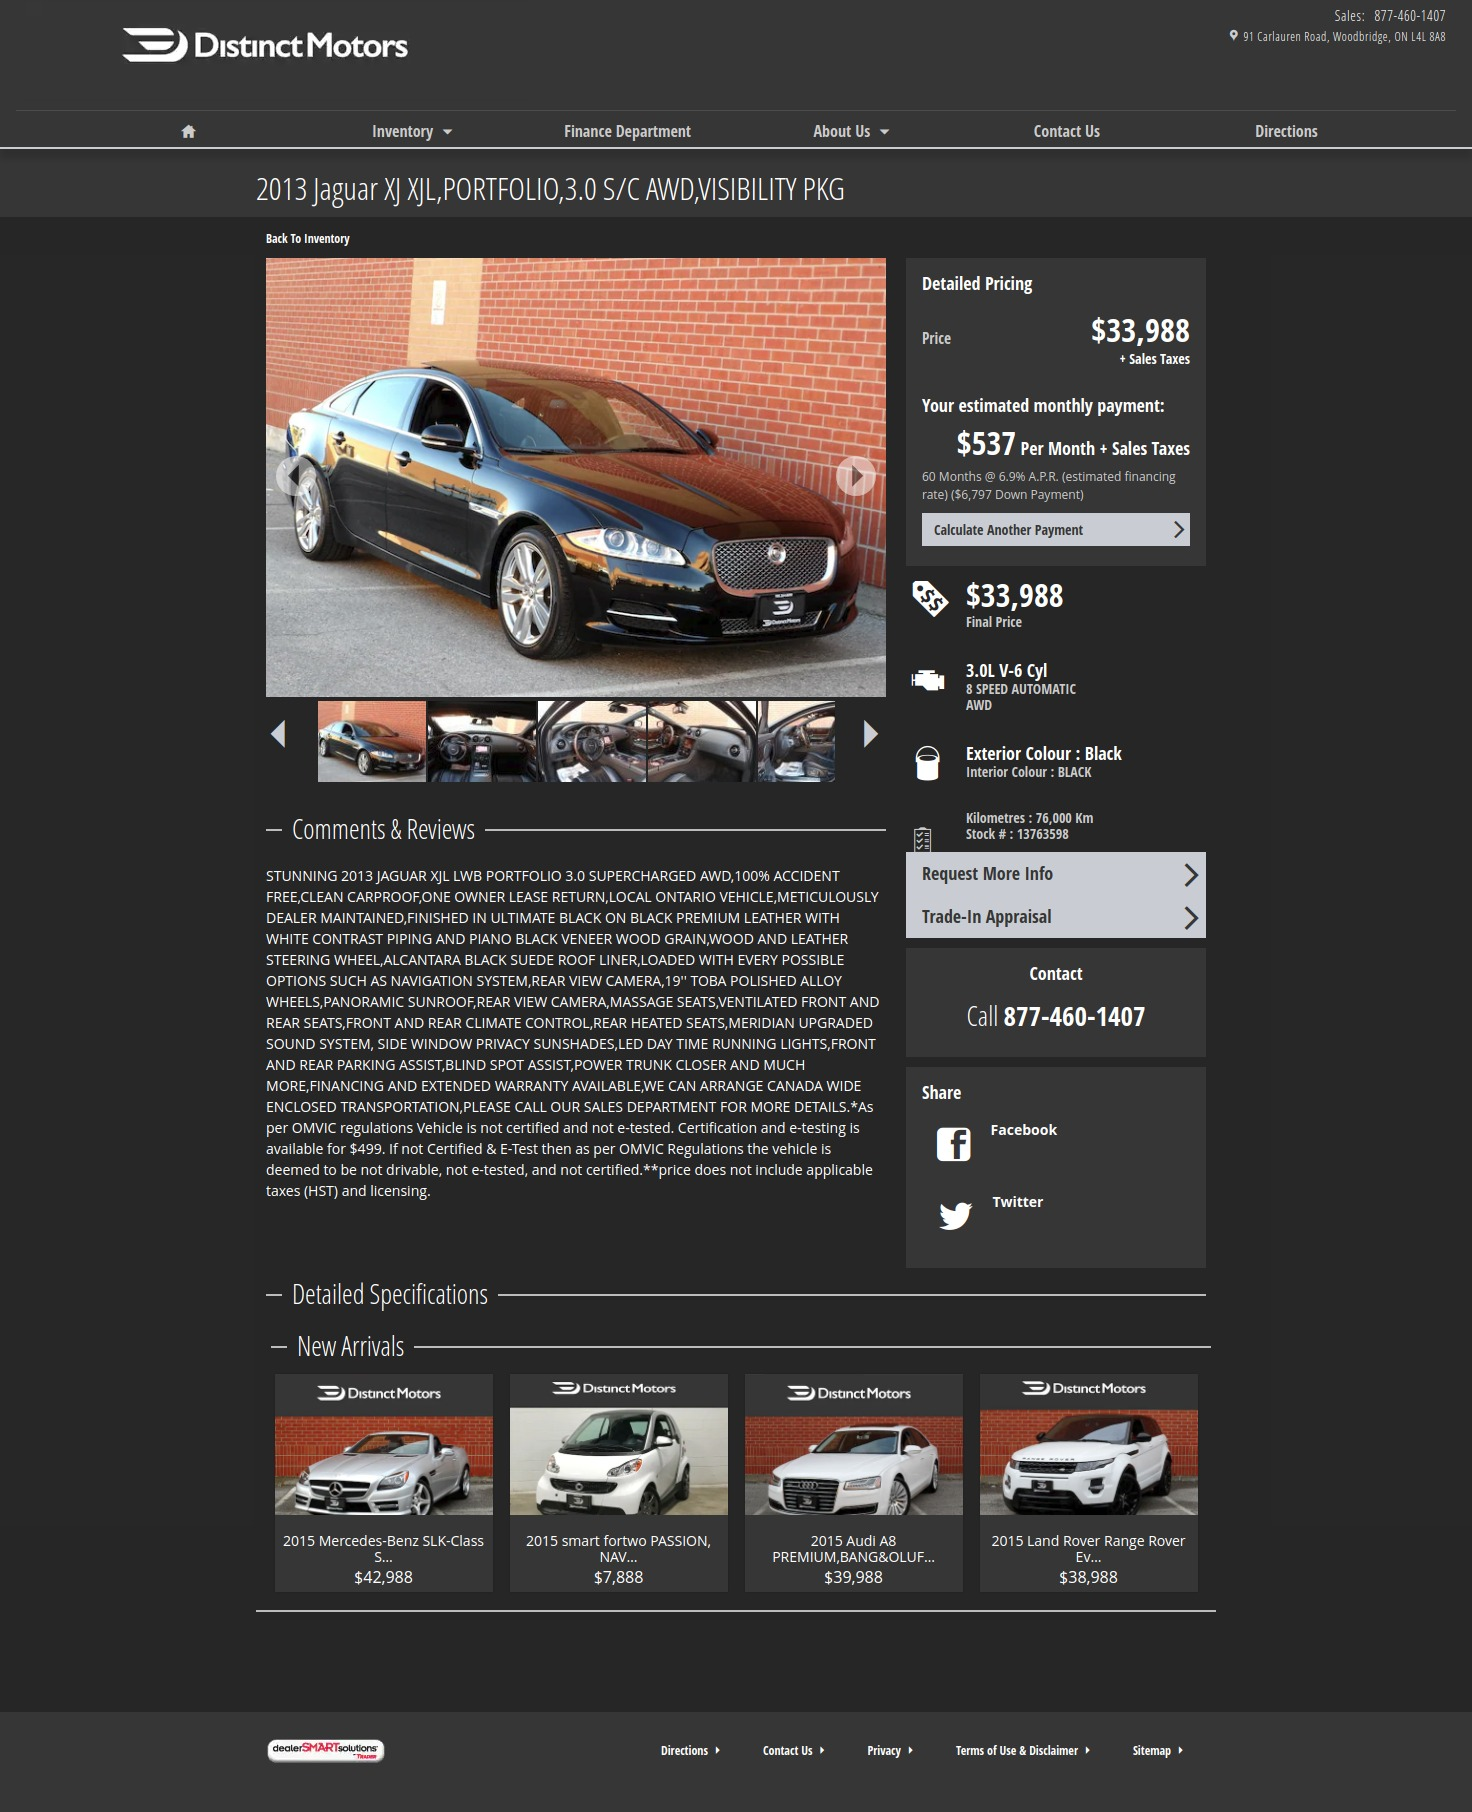car: (862, 720, 880, 750)
